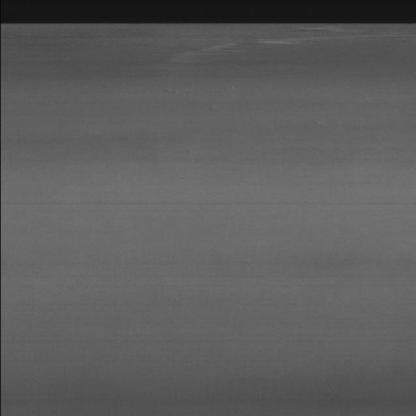silk_spot: (152, 26, 380, 68)
